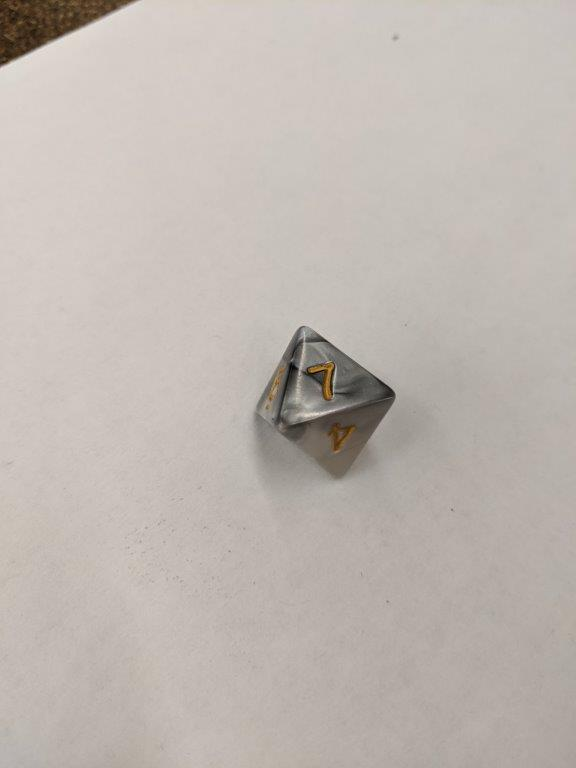d8-7: (256, 326, 395, 480)
